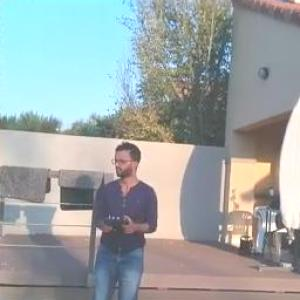follow: (83, 136, 161, 299)
